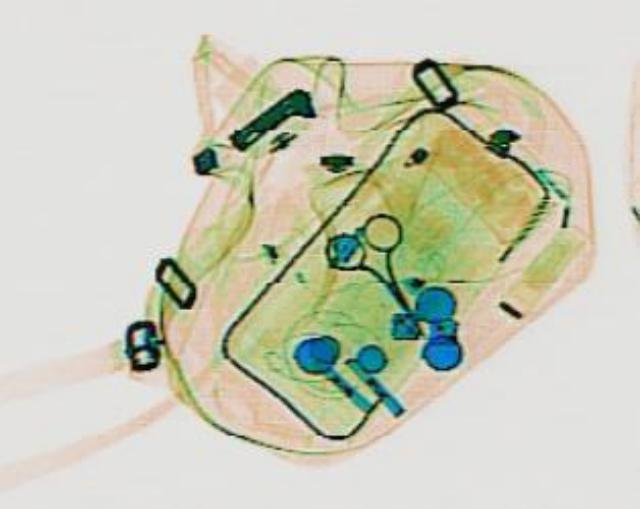Scissors: (308, 205, 452, 330)
